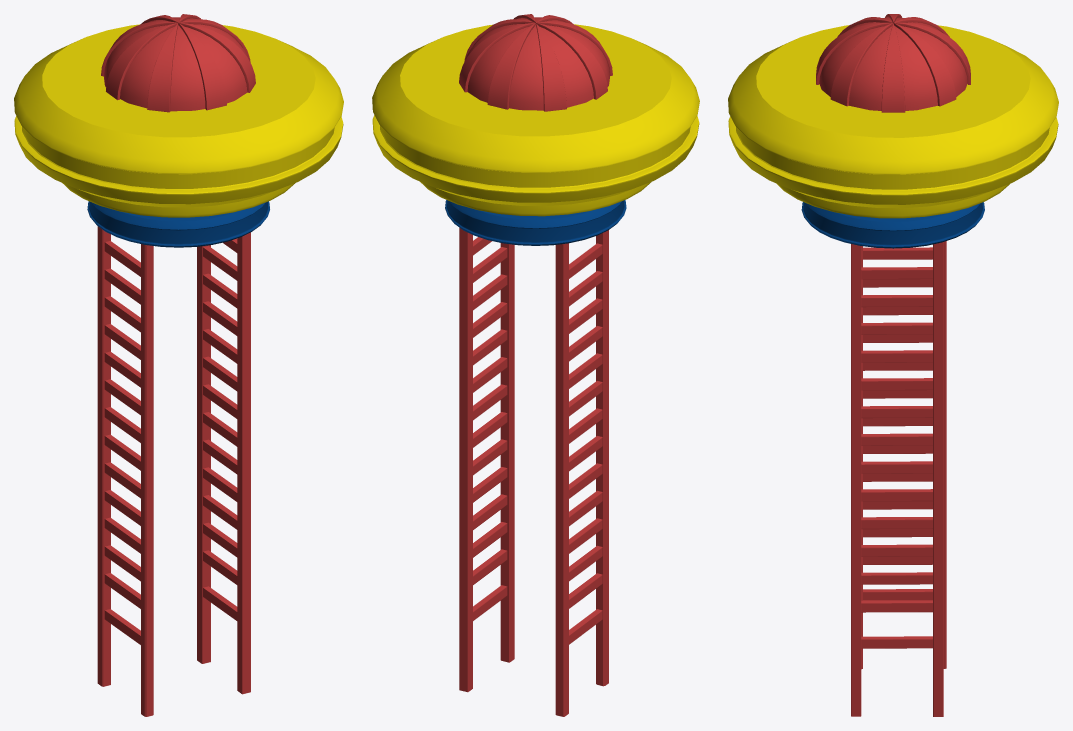
The model's file is TallBulding.fbx.
The picture shows the model from 3 angles, left to right: view 1: azimuth 30°, elevation 25°; view 2: azimuth 150°, elevation 25°; view 3: azimuth 270°, elevation 25°; orthographic projection.
Visible parts, largest first — view 1: TallBulding; view 2: TallBulding; view 3: TallBulding.
Part boxes in pixels (x1,y1,x2,y2): TallBulding: (14,14,343,716); TallBulding: (372,14,699,716); TallBulding: (728,14,1058,716).
Bounding box in the file's own units: 4714 × 10508 × 4714.
